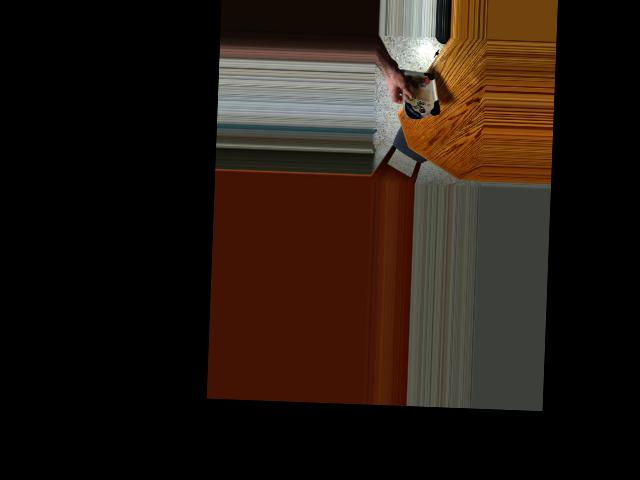cheese: (400, 63, 437, 122)
